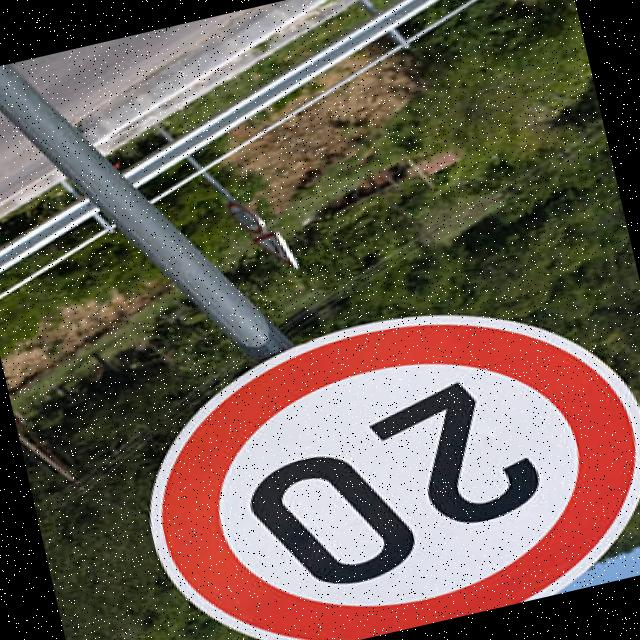speed_limit_20: (105, 257, 640, 640)
